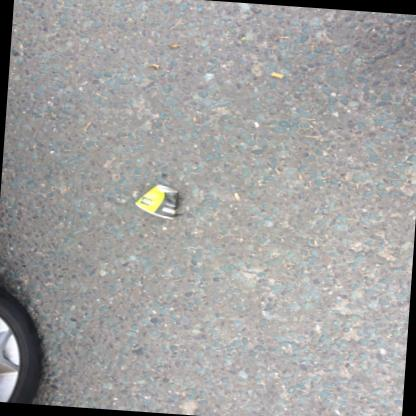Paper: (135, 184, 178, 218)
